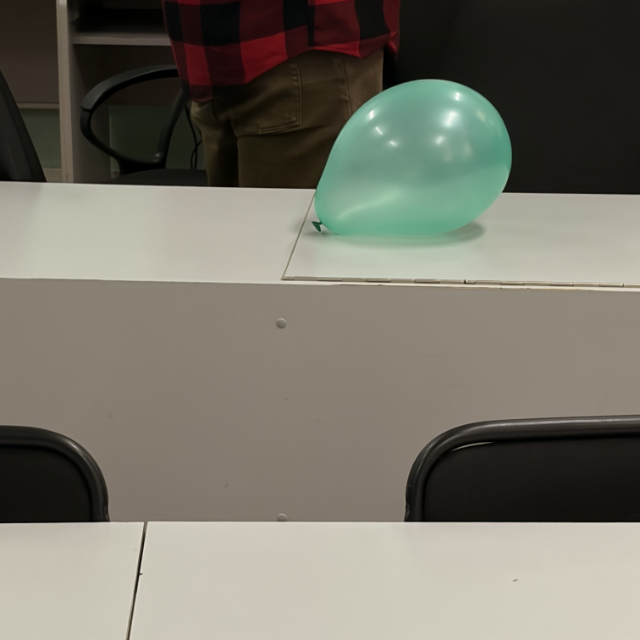balloon: (311, 78, 512, 238)
